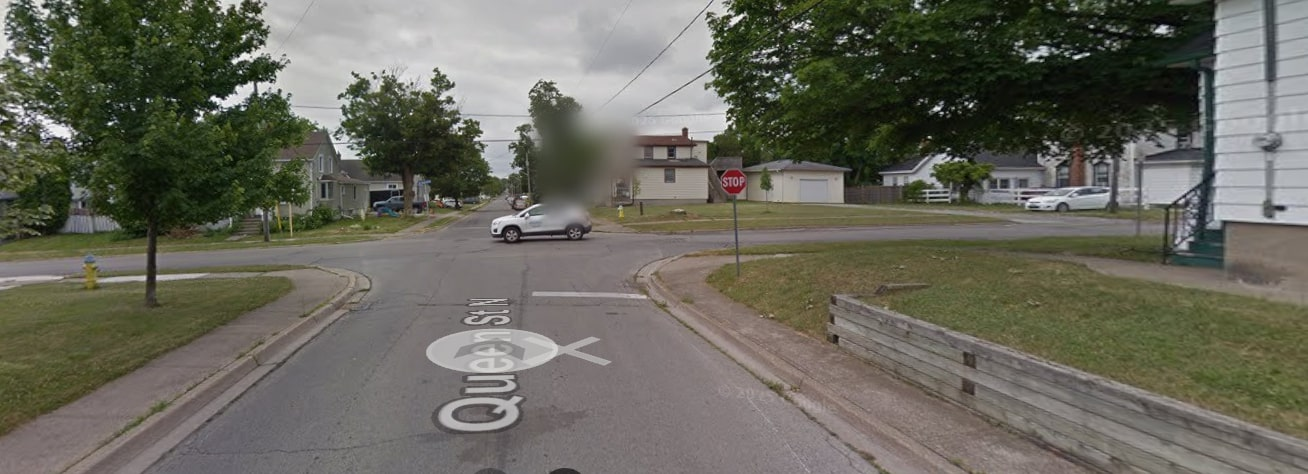cracks: (178, 423, 427, 459), (355, 293, 654, 319)
